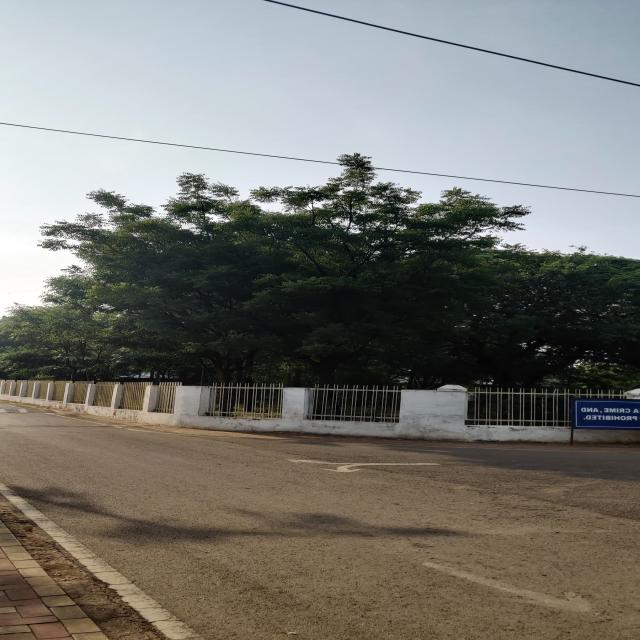Neem Tree: (34, 171, 478, 353)
